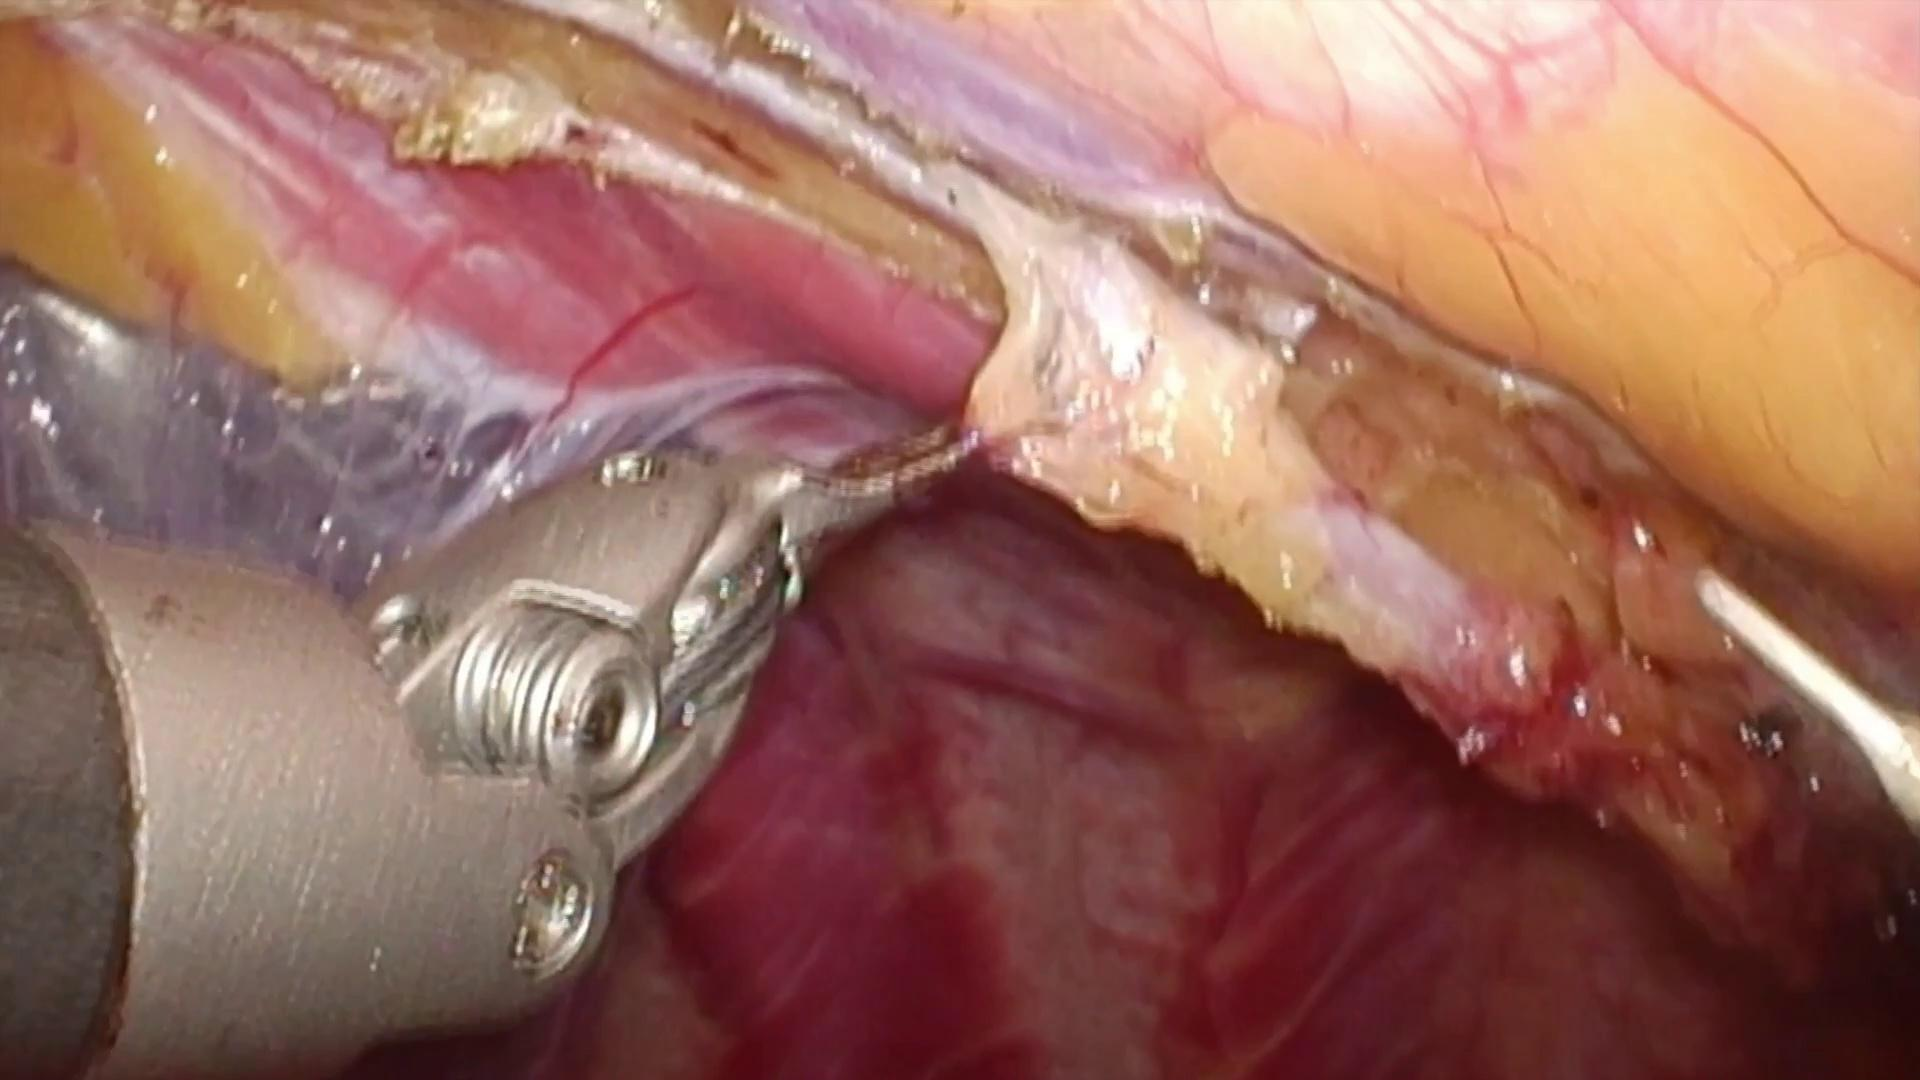Debakey: (728, 409, 1010, 564)
clipper: (1691, 568, 1920, 832)
